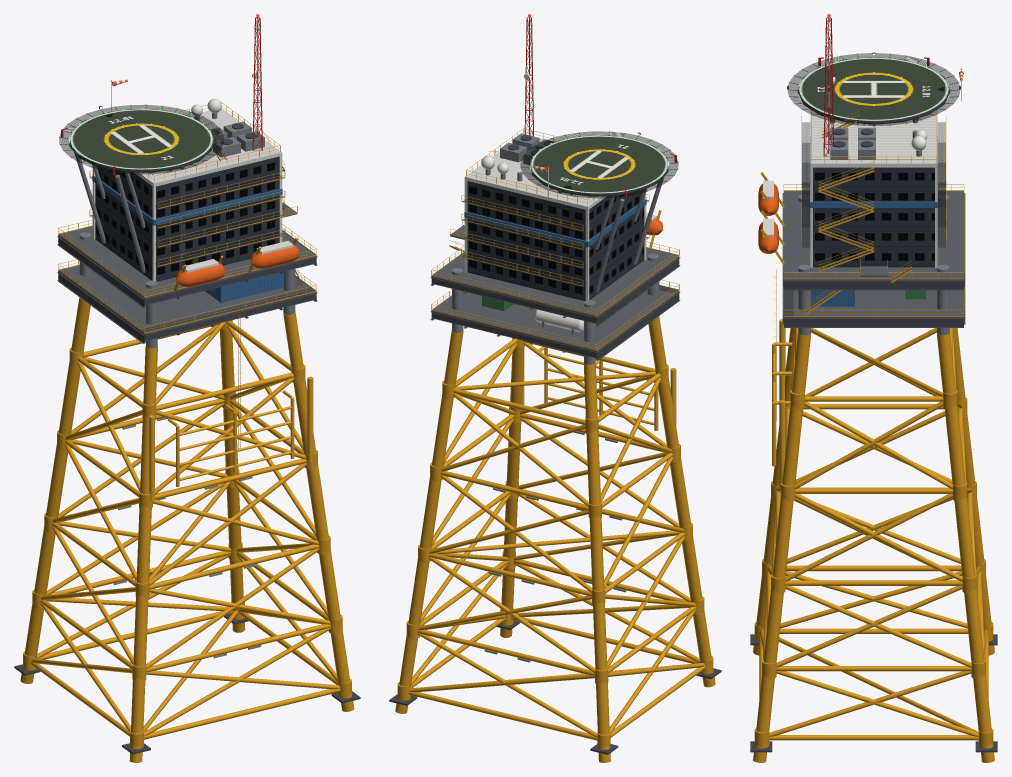
3 views of the same model, side by side, from view 1: azimuth 30°, elevation 25°; view 2: azimuth 150°, elevation 25°; view 3: azimuth 270°, elevation 25° (orthographic). The views are drawn at different scales.
Parts seen in each view (by area): view 1: lq_static; view 2: lq_static; view 3: lq_static.
Part boxes in pixels (box(x1,y1,x2,y2)): lq_static: box(14, 14, 360, 762); lq_static: box(389, 14, 721, 762); lq_static: box(750, 14, 997, 762).
Bounding box in the file's own units: 40.36 × 114 × 35.72.
21 materials, 6 textured.
